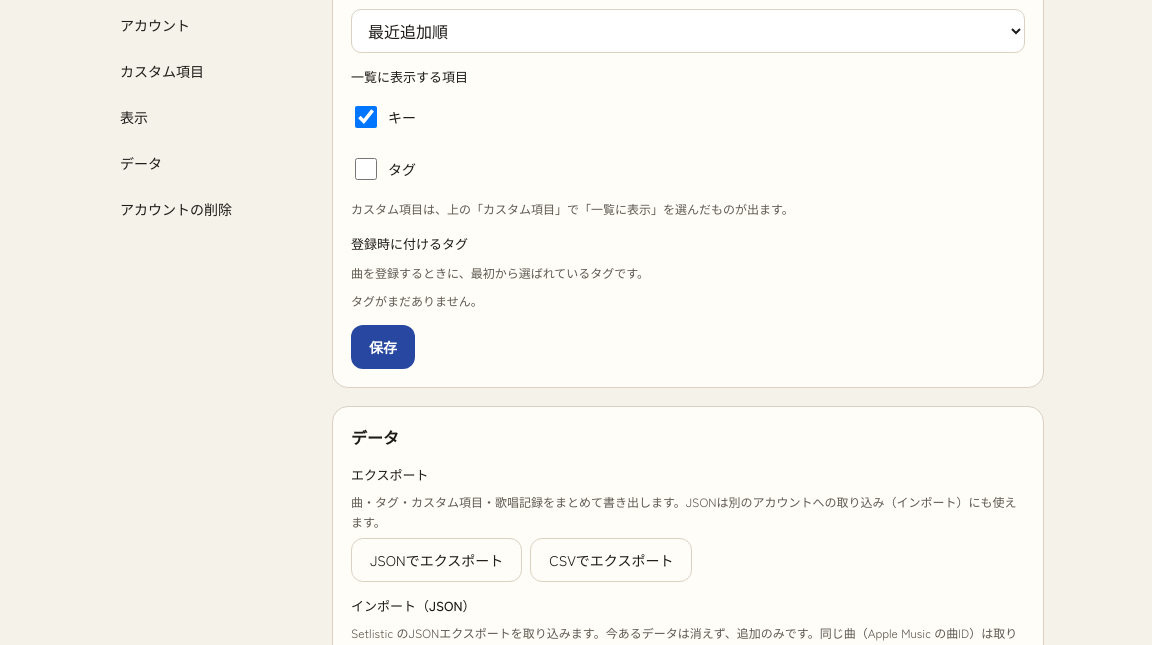
Test: SettingsScreen › 保存の失敗とタグなしの表示
(page scrolled)
Expected: the text "タグがまだありません。" is shown, left=351, top=292, right=483, bottom=309
Click the button "保存".
click(383, 347)  # box left=351, top=325, right=415, bottom=369
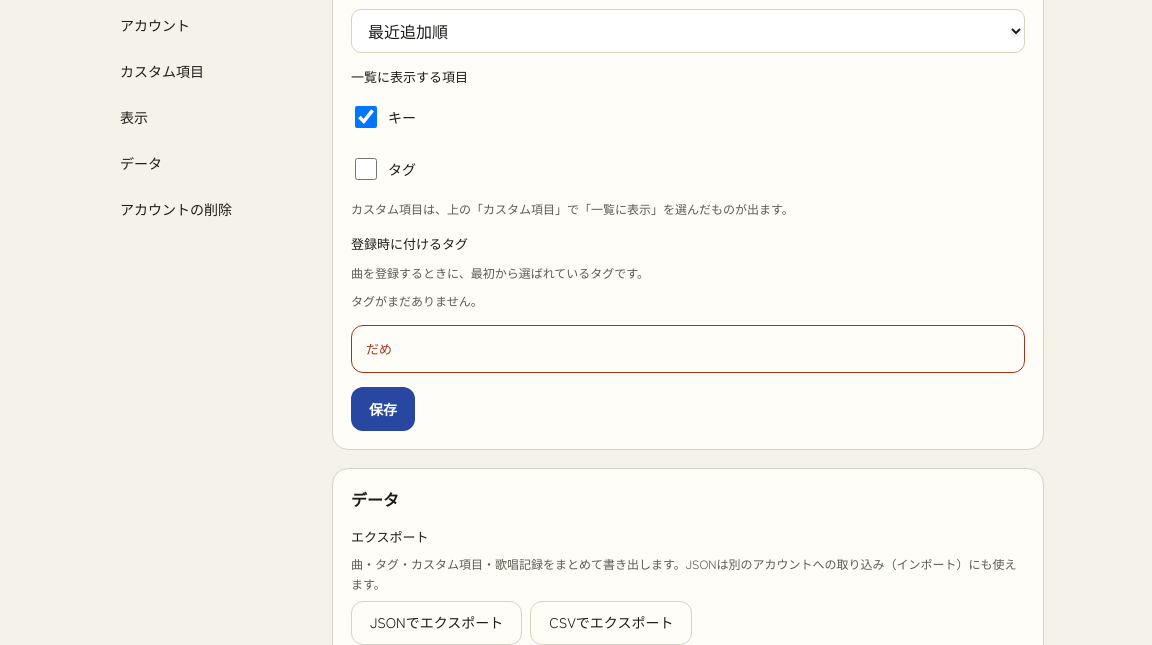
Expected: the message reads "だめ", left=366, top=339, right=392, bottom=358
